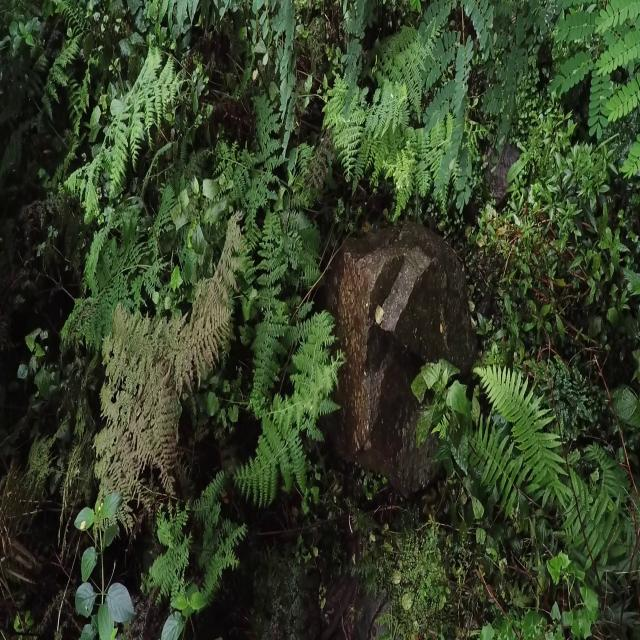Mysore-Thorn-Weed: (532, 0, 640, 154), (421, 0, 499, 165), (248, 0, 302, 129), (338, 0, 370, 114)
